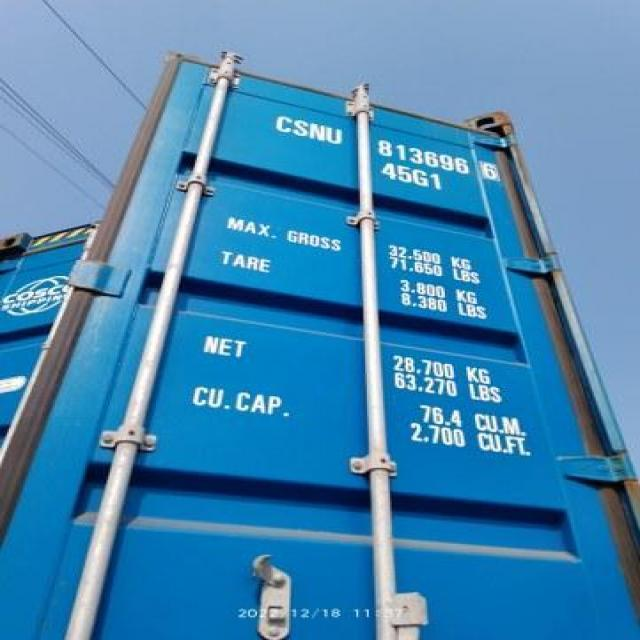ISO: (382, 162, 440, 189)
container_number: (272, 108, 494, 181)
